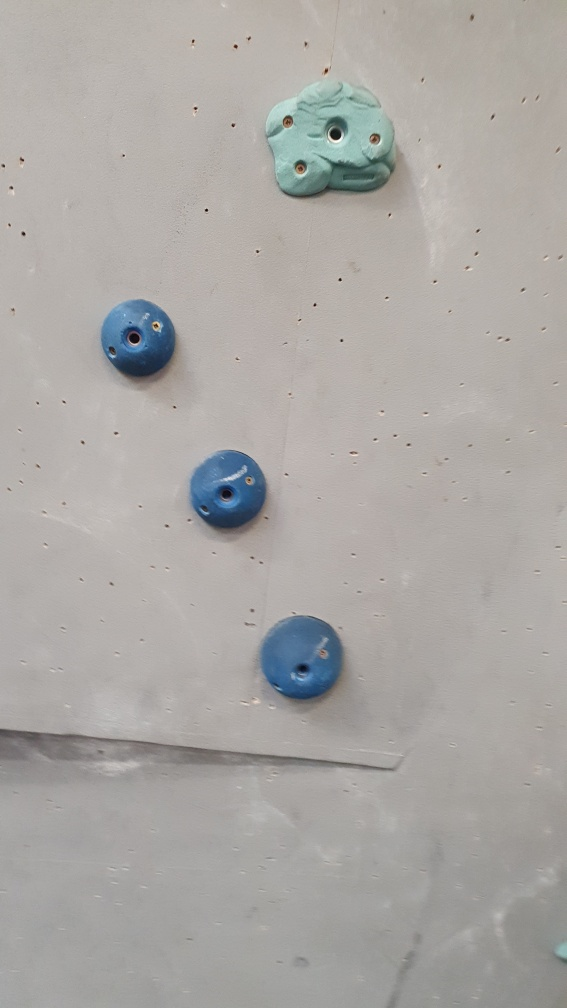Sloper: (256, 611, 352, 711), (184, 443, 277, 535), (95, 291, 181, 385)
